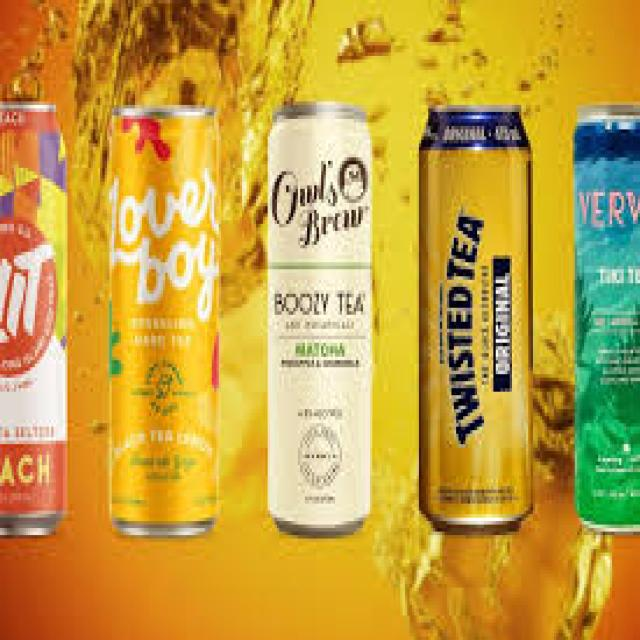Cans: (412, 95, 545, 542), (98, 102, 228, 546), (256, 91, 379, 542)
